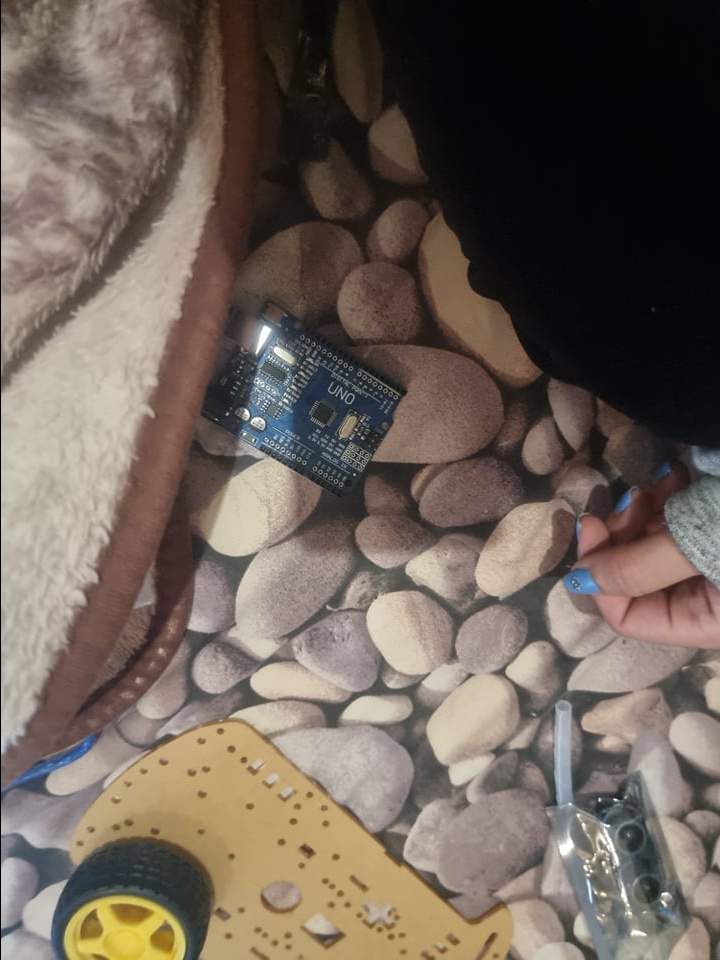SENSOR: (601, 804, 666, 922)
UNO R3: (201, 301, 404, 496)
